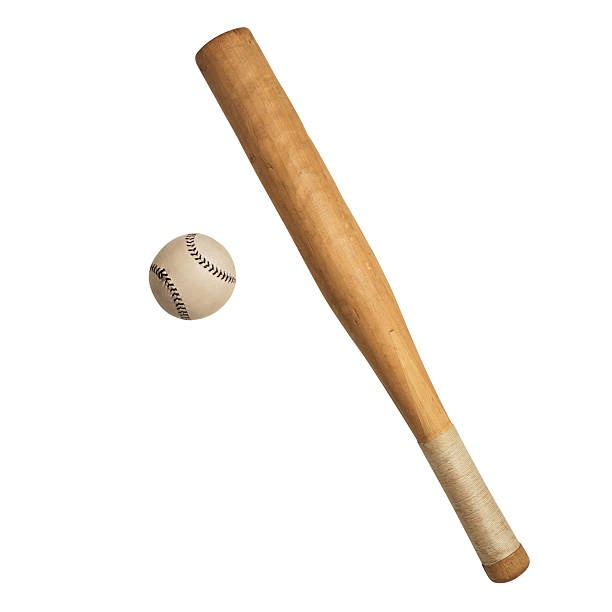bita: (189, 26, 522, 579)
